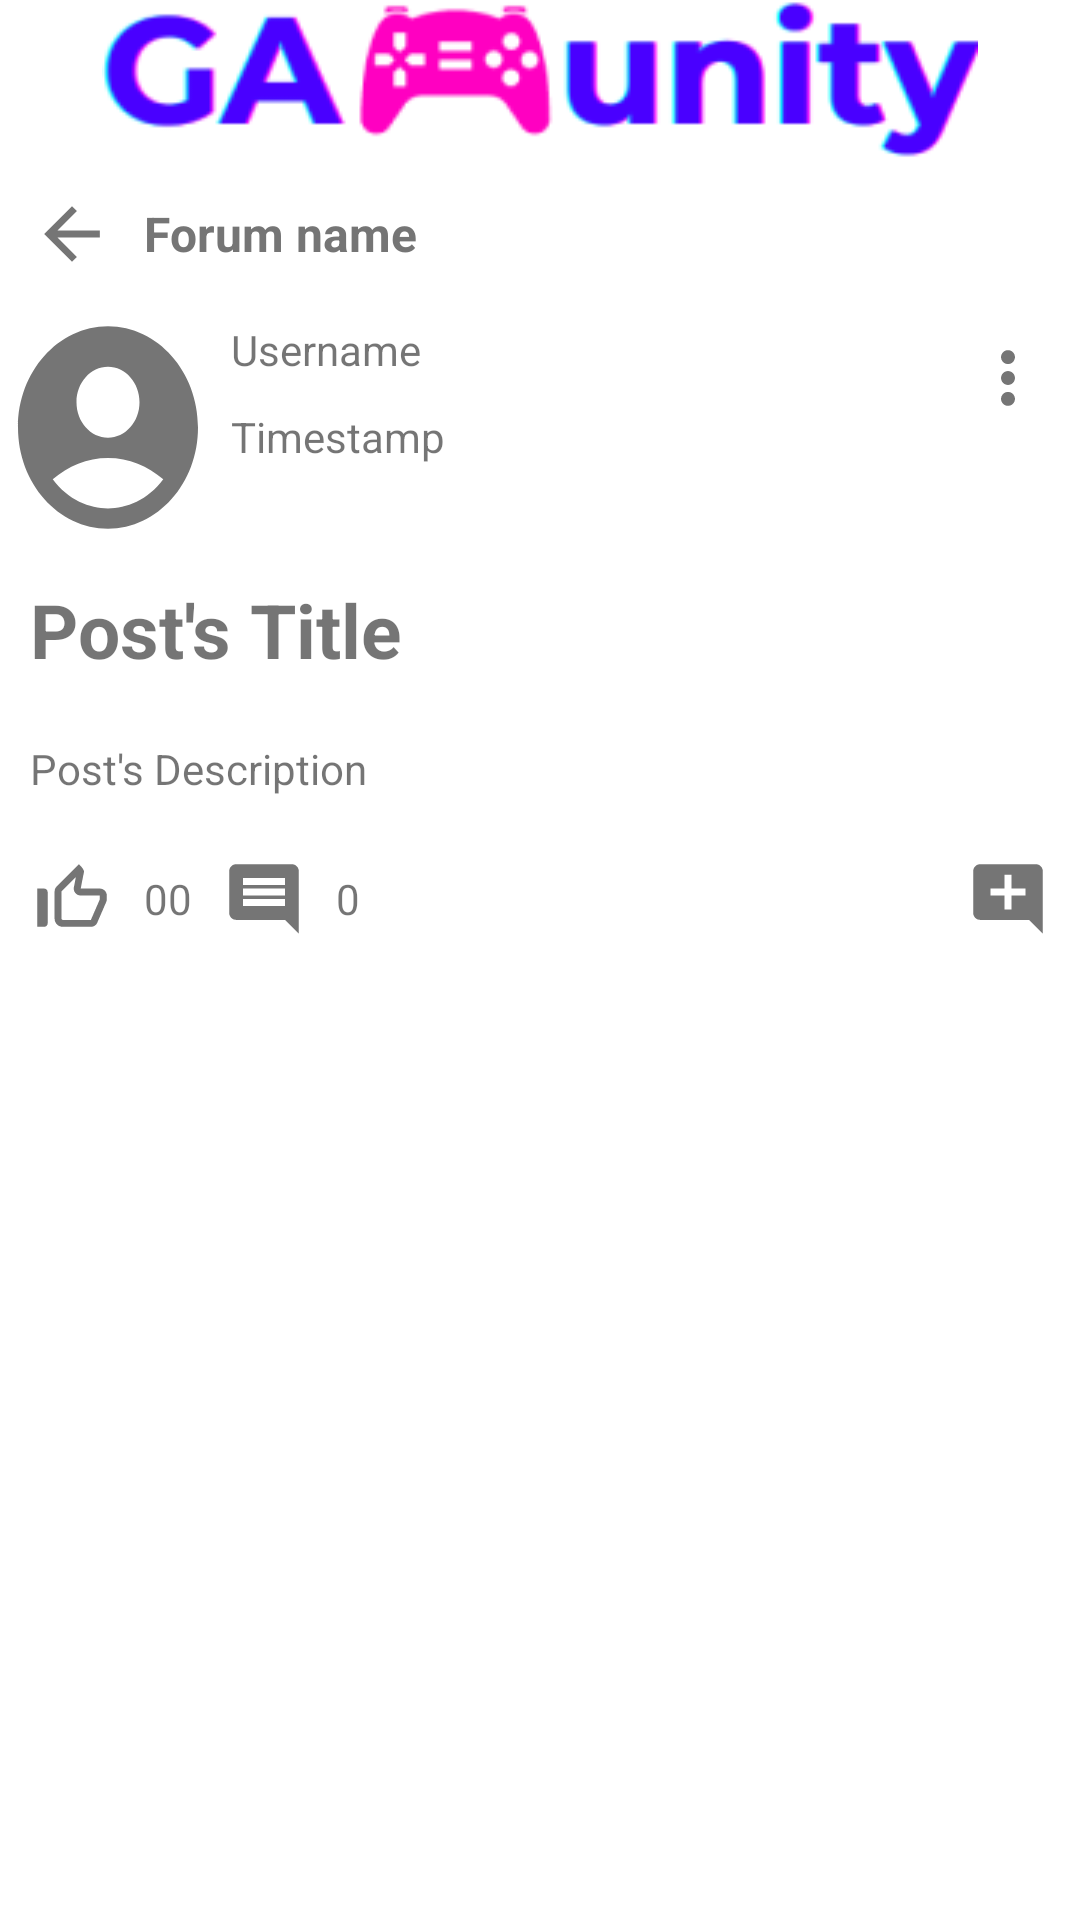

Where icons sit on this 1080*1920 app screen, as (x1, y1, x2, y2):
account base: (18, 326, 198, 529)
